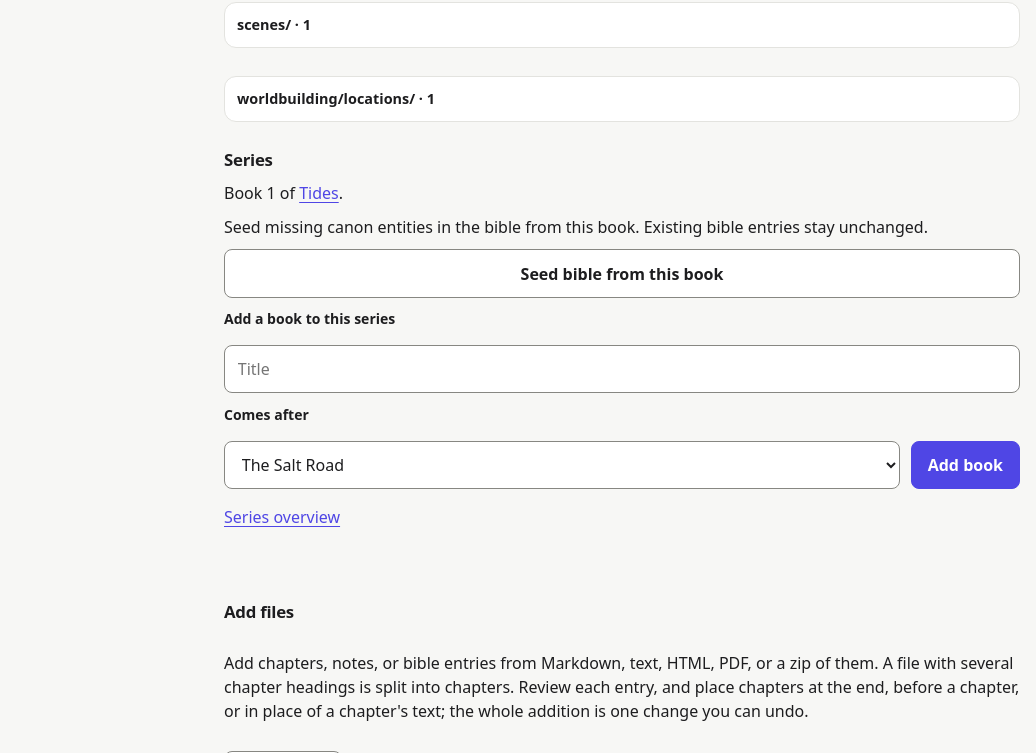
Test: book health and project › adds a linked book after the highest existing book number
The width and height of the screenshot is (1036, 753).
(page scrolled)
Check: the link "Tides" is shown, box [299,182,339,204]
Type "Spring Tide" into the field labelled "Add a book to this series" at [622, 369], box [224,345,1020,394]
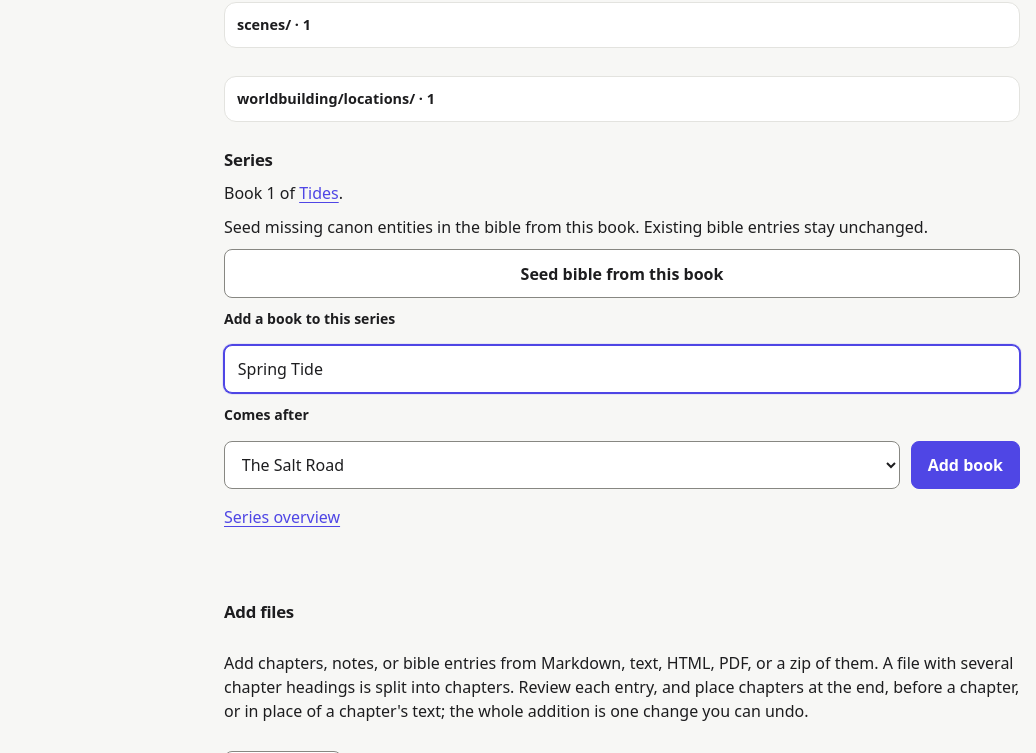
Check: the dropdown labelled "Comes after" shows "The Salt Road", box [224,441,900,489]
Click the button "Add book" at [965, 465], box [911,441,1020,489]
(page scrolled)
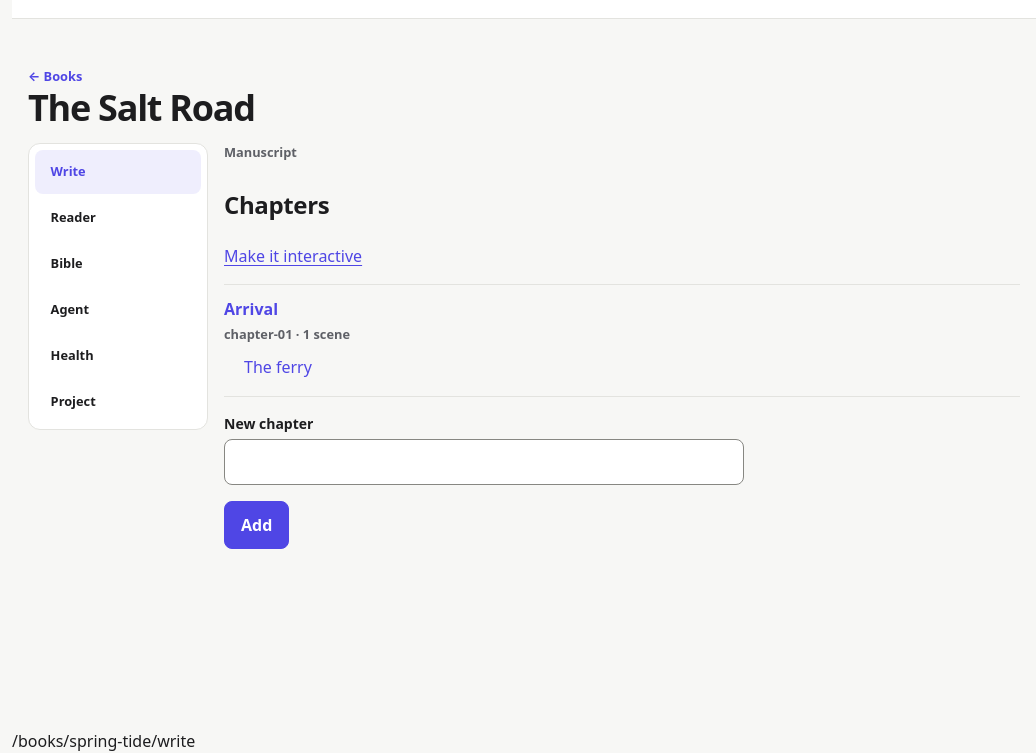
Check: the text with test id "location" reads "/books/spring-tide/write", box [12,730,195,752]
